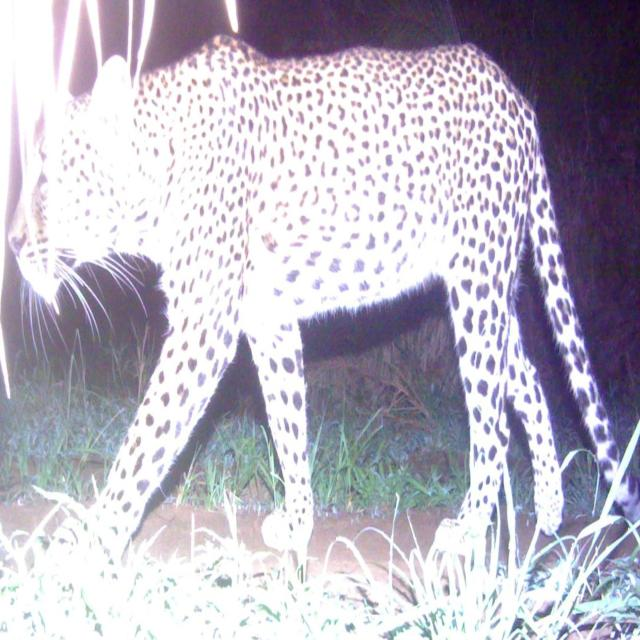Leopard: (0, 23, 640, 623)
